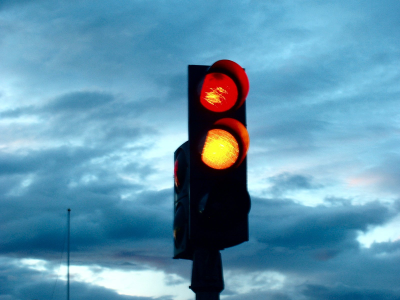trafficlight_red: (194, 63, 249, 240)
